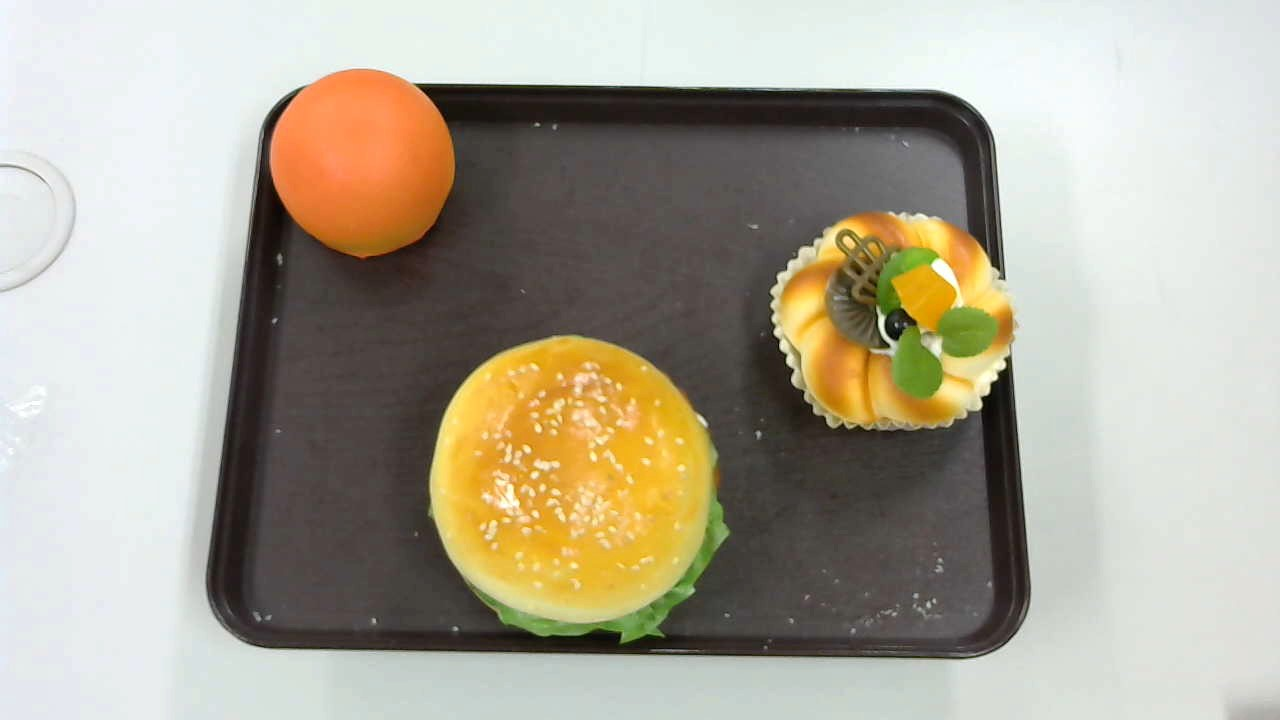bun: (269, 68, 456, 260)
fruit tart: (770, 211, 1019, 431)
hamburger: (427, 333, 729, 645)
